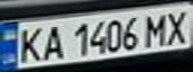0: (106, 16, 127, 53)
1: (66, 19, 90, 56)
4: (87, 17, 109, 55)
6: (121, 13, 145, 51)
A: (39, 22, 69, 61)
K: (12, 24, 48, 63)
M: (139, 10, 172, 47)
X: (160, 7, 193, 44)
